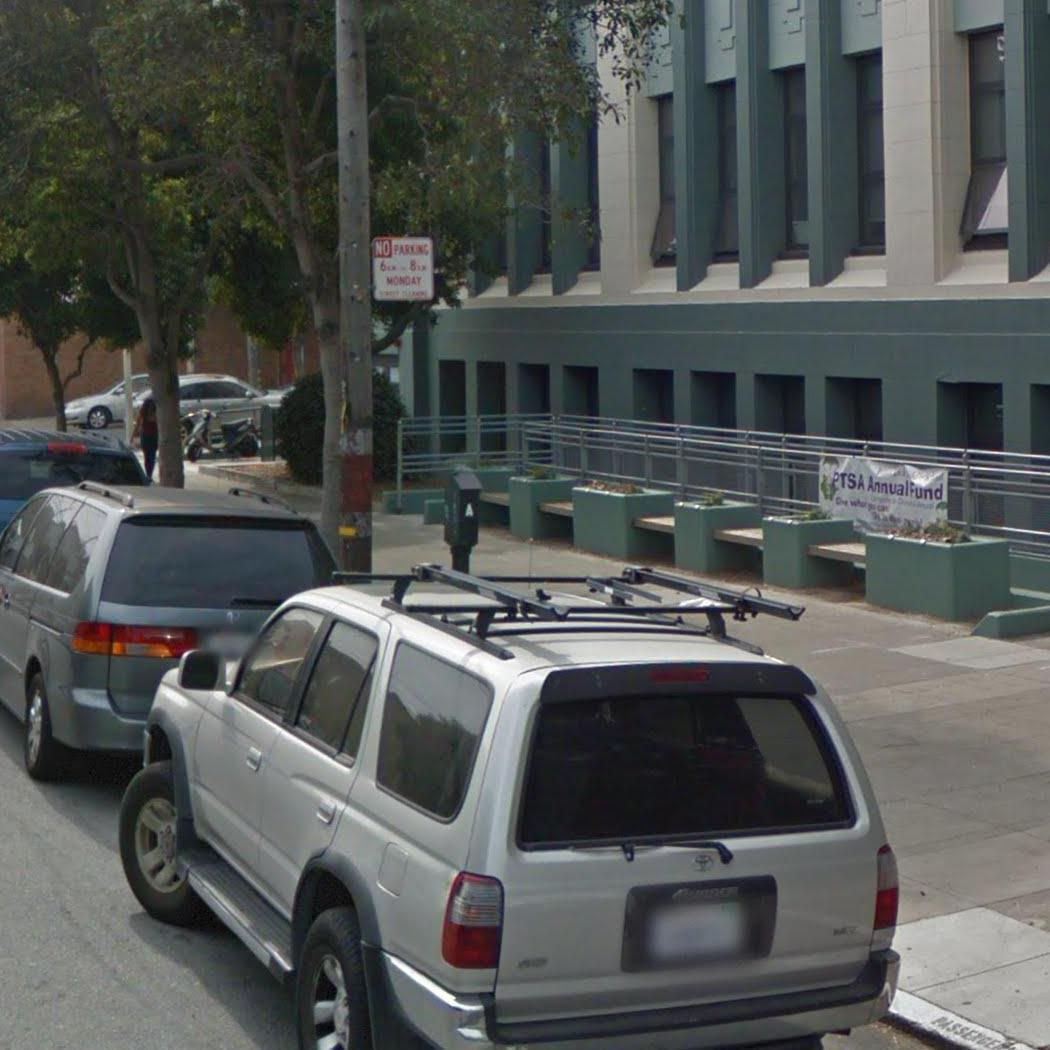No Parking: (369, 230, 440, 305)
